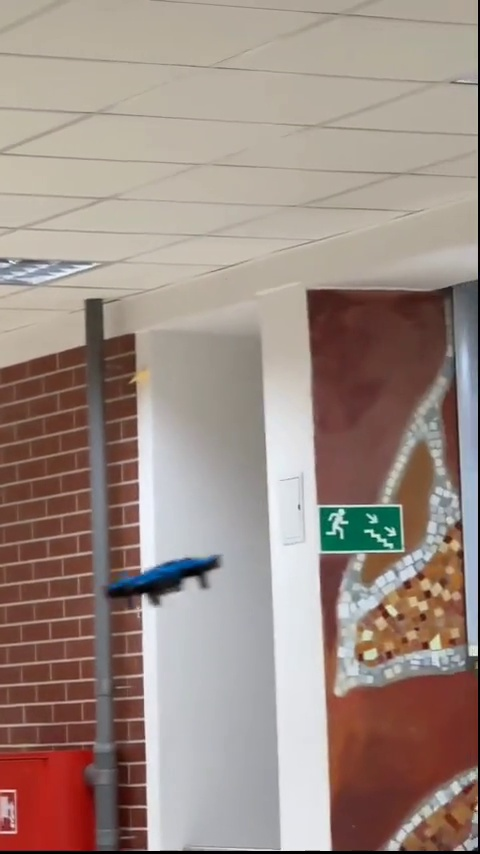drone: (100, 555, 224, 607)
